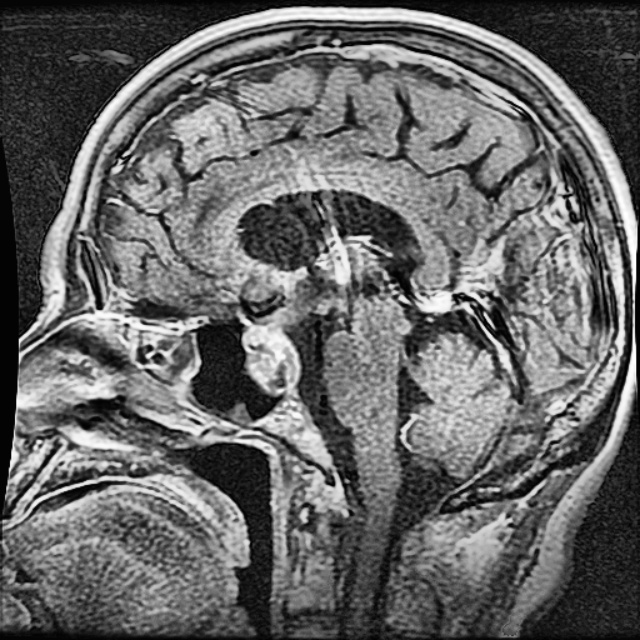Pituitary: (242, 322, 298, 397)
